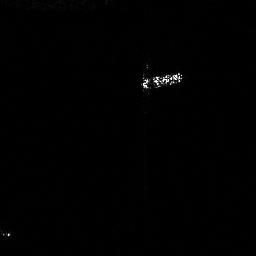ship: (136, 65, 185, 92)
